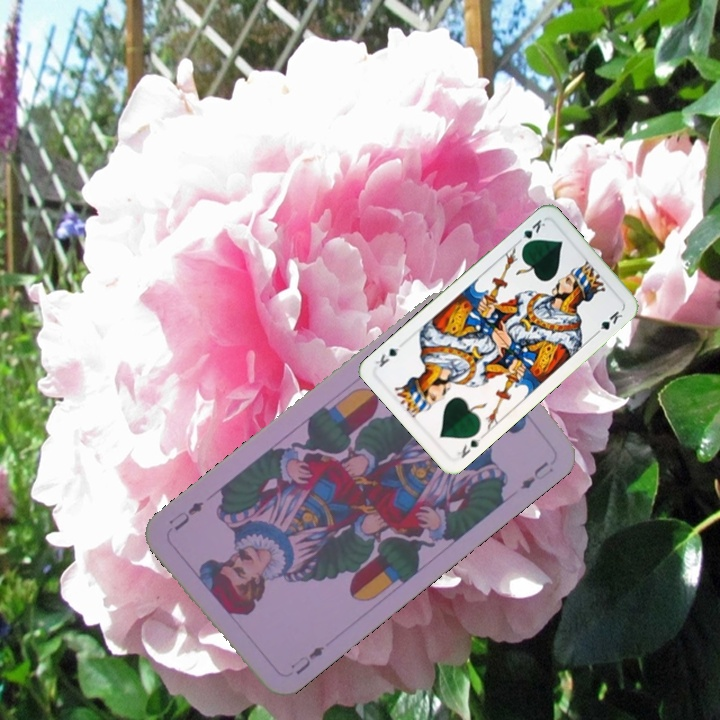EU: (287, 642, 327, 678)
GK: (518, 215, 548, 250), (452, 431, 486, 461)
